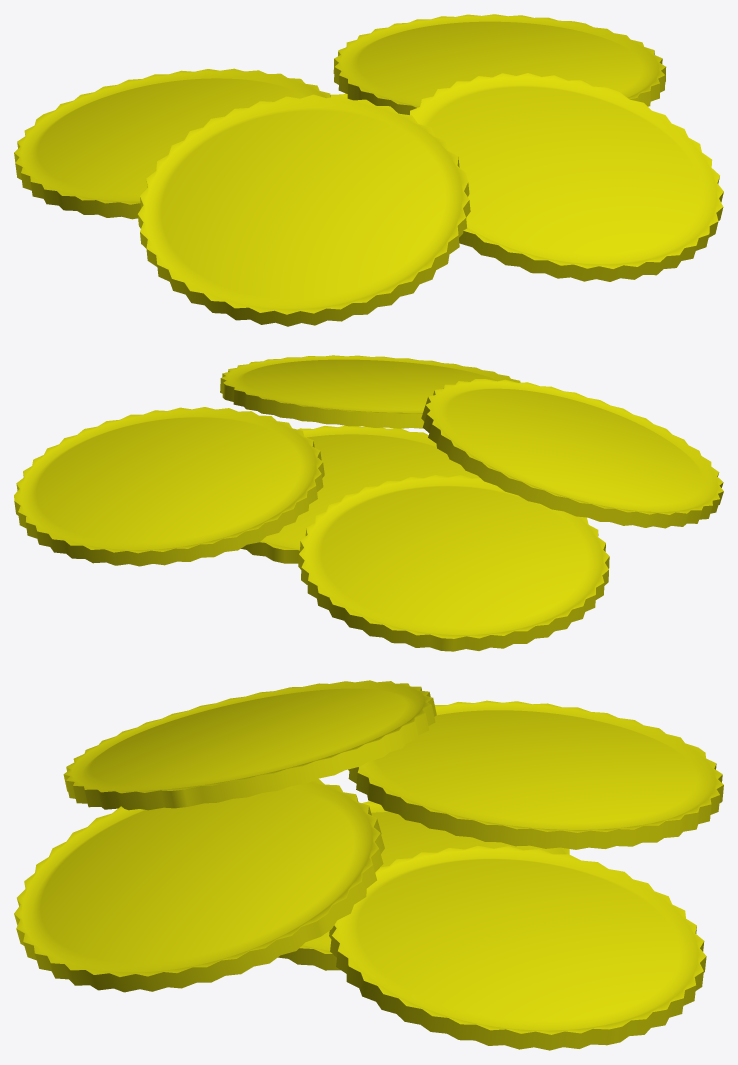
File: Coins.FBX
The picture shows the model from 3 angles, top to bottom: view 1: azimuth 30°, elevation 25°; view 2: azimuth 150°, elevation 25°; view 3: azimuth 270°, elevation 25°; orthographic projection. The views are drawn at different scales.
Visible parts, largest first — view 1: Cylinder005, Cylinder001, Cylinder003, Cylinder004; view 2: Cylinder003, Cylinder004, Cylinder005, Cylinder001, Cylinder002; view 3: Cylinder004, Cylinder001, Cylinder003, Cylinder005, Cylinder002.
Part boxes in pixels (bbox=[...]): Cylinder005: bbox=[137, 94, 470, 326]; Cylinder001: bbox=[409, 73, 723, 281]; Cylinder003: bbox=[14, 68, 330, 219]; Cylinder004: bbox=[333, 14, 666, 114]; Cylinder003: bbox=[298, 475, 609, 651]; Cylinder004: bbox=[14, 407, 324, 566]; Cylinder005: bbox=[421, 379, 723, 528]; Cylinder001: bbox=[220, 355, 520, 428]; Cylinder002: bbox=[241, 425, 479, 563]; Cylinder004: bbox=[329, 846, 706, 1050]; Cylinder001: bbox=[14, 778, 384, 992]; Cylinder003: bbox=[348, 700, 723, 849]; Cylinder005: bbox=[63, 680, 436, 810]; Cylinder002: bbox=[278, 801, 569, 970].
Bounding box in the file's own units: 58.54 × 9.61 × 52.85.
1 material, 1 textured.
